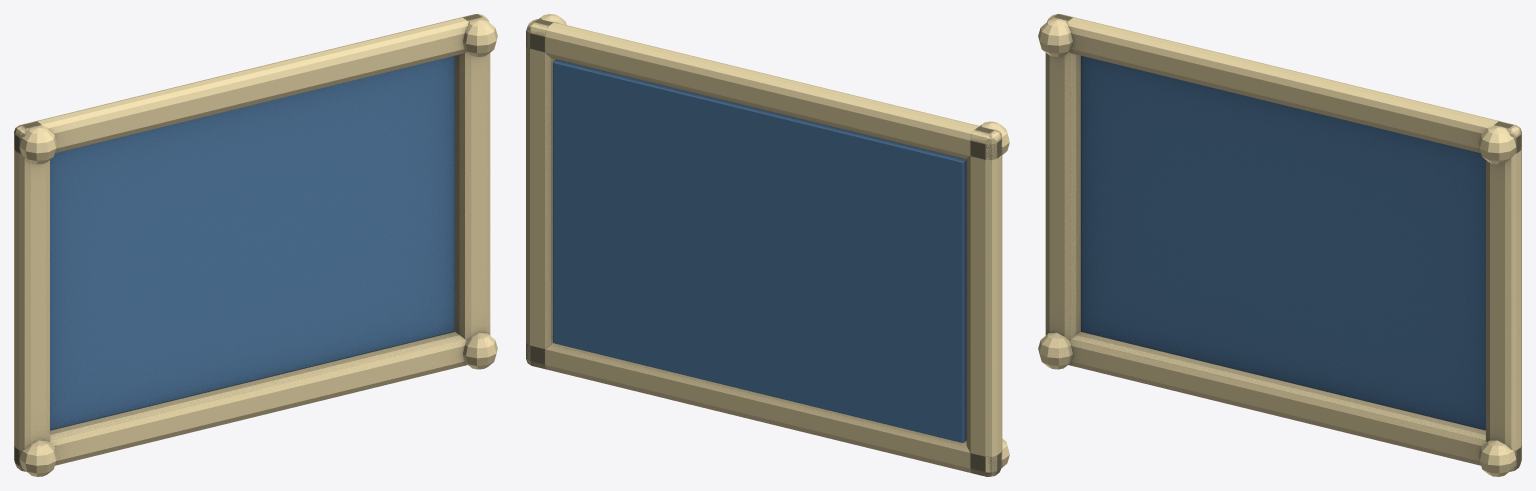
File: deco_quadro_mar.glb
3 views of the same model, side by side, from view 1: azimuth 30°, elevation 25°; view 2: azimuth 150°, elevation 25°; view 3: azimuth 330°, elevation 25° (orthographic).
Visible parts, largest first — view 1: deco_quadro_mar_tronco; view 2: deco_quadro_mar_tronco; view 3: deco_quadro_mar_tronco.
Boxes of the visible parts, box(x1,y1,x2,y2) form: deco_quadro_mar_tronco: box(14, 14, 497, 476); deco_quadro_mar_tronco: box(526, 14, 1009, 476); deco_quadro_mar_tronco: box(1038, 14, 1521, 476).
Size of the model in its own units: 1.27 by 0.89 by 0.105.
Materials: 1 (1 with a texture image).
